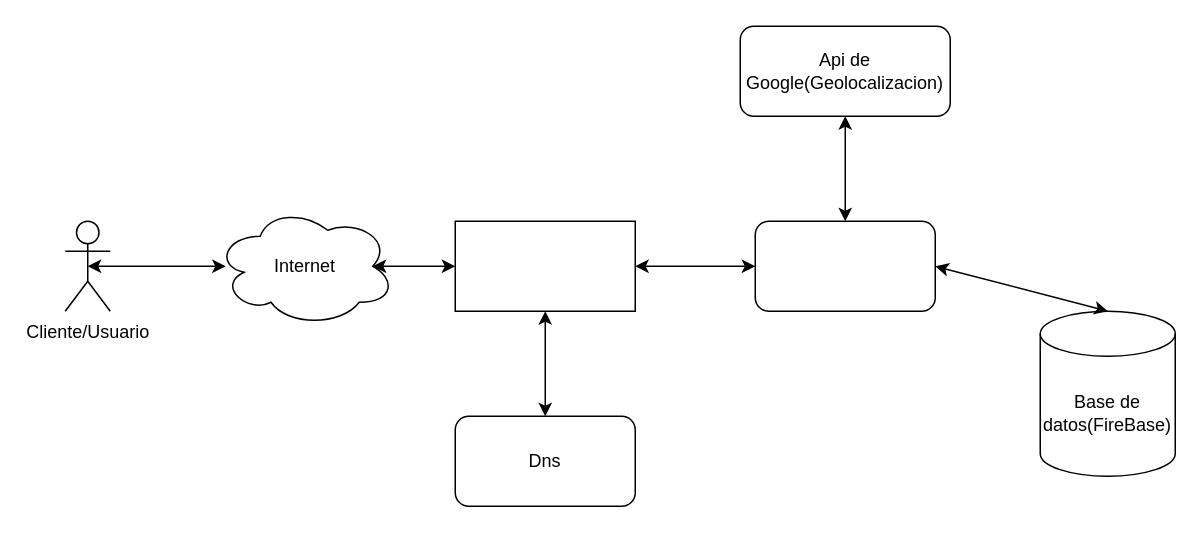
Some shapes in this 1202 by 533 pixel diagram are drawn without their labels. Each missing label, with the centre of its shape:
"Firewall" goes at (544,265).
"Servidor Web" goes at (844,265).
